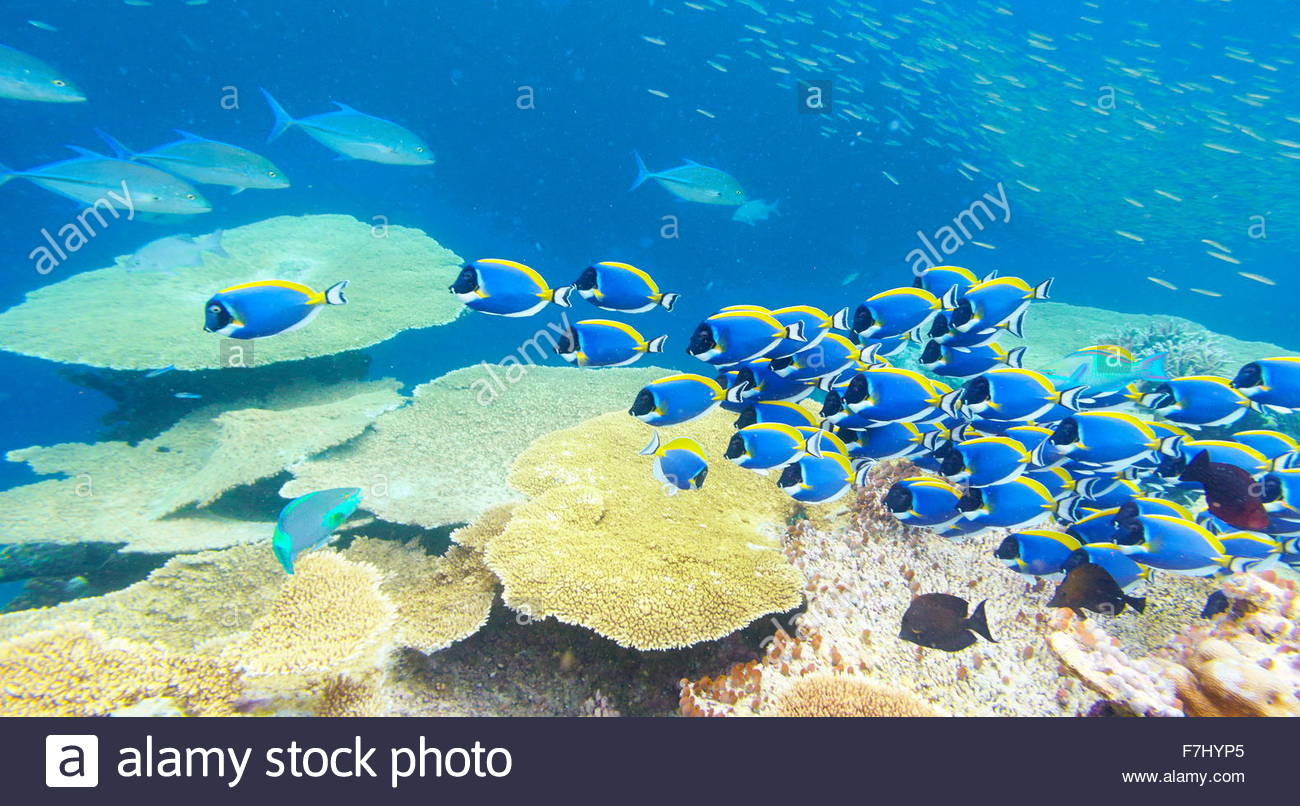fish: (244, 81, 461, 187), (6, 148, 223, 238), (186, 269, 369, 354), (113, 135, 301, 204), (444, 253, 573, 326), (921, 265, 1033, 342), (672, 302, 792, 372), (875, 478, 1007, 532), (563, 250, 672, 314), (824, 287, 953, 340), (1142, 373, 1252, 434), (535, 317, 671, 366), (613, 372, 732, 428), (841, 366, 955, 423), (936, 363, 1055, 412), (763, 458, 863, 500)
